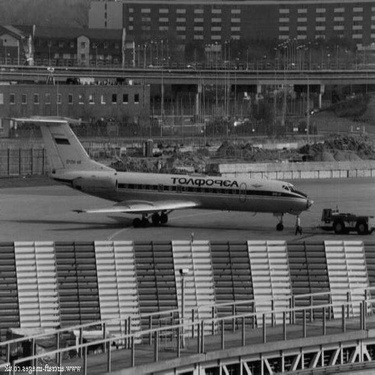airplane: (2, 90, 332, 221)
